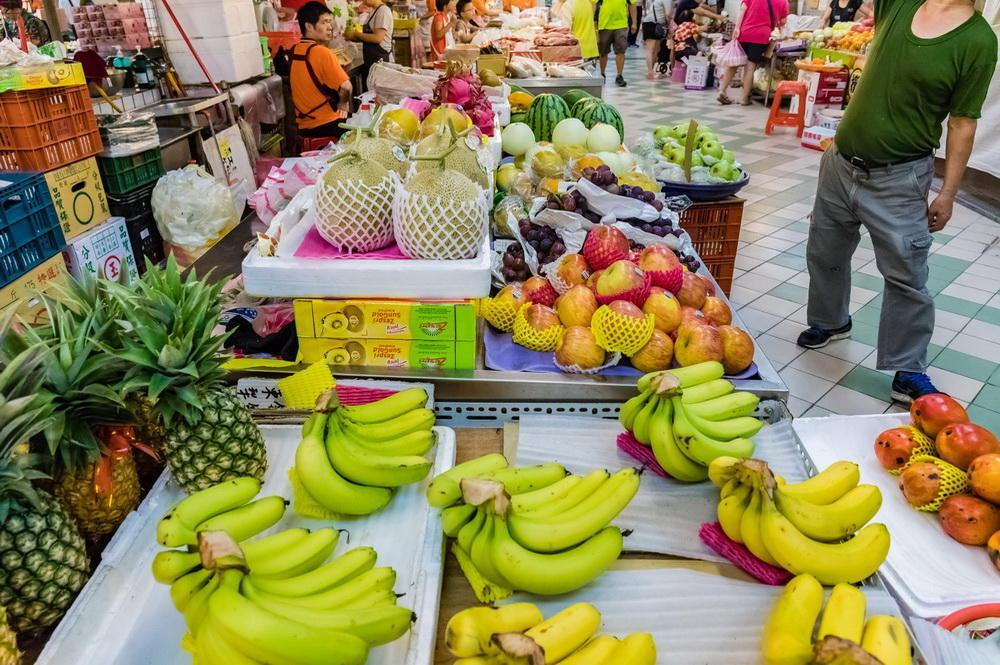apple: (932, 420, 998, 468), (909, 393, 968, 435)
